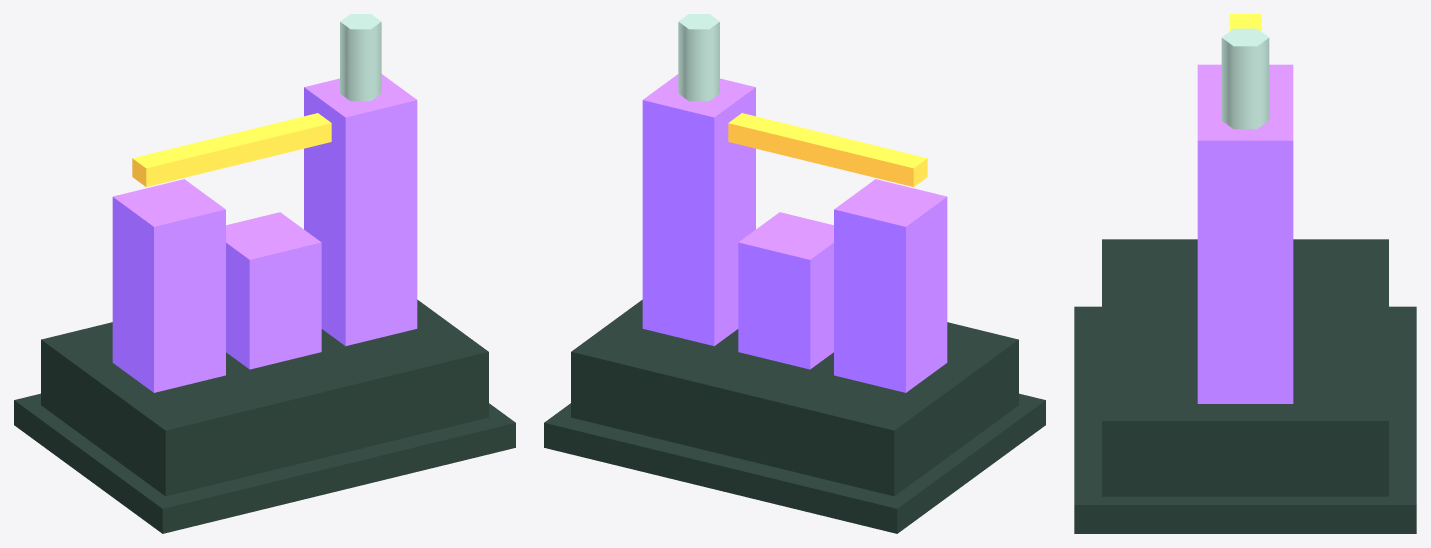
The model's file is demand-response-system.glb.
The picture shows the model from 3 angles, left to right: view 1: azimuth 30°, elevation 25°; view 2: azimuth 150°, elevation 25°; view 3: azimuth 270°, elevation 25°; orthographic projection. The views are drawn at different scales.
Parts seen in each view (by area): view 1: body-demand, pulse-tower-right, pulse-tower-left, base-footprint, pulse-tower-mid, pulse-demand-bus, antenna-demand; view 2: body-demand, pulse-tower-right, pulse-tower-left, base-footprint, pulse-tower-mid, pulse-demand-bus, antenna-demand; view 3: body-demand, pulse-tower-right, base-footprint, antenna-demand, pulse-tower-left, pulse-demand-bus.
Boxes of the visible parts, left/top/right/bottom form: body-demand: left=41, top=299, right=488, bottom=496; pulse-tower-right: left=304, top=74, right=417, bottom=346; pulse-tower-left: left=112, top=179, right=225, bottom=392; base-footprint: left=14, top=393, right=515, bottom=533; pulse-tower-mid: left=226, top=212, right=321, bottom=369; pulse-demand-bus: left=132, top=113, right=331, bottom=186; antenna-demand: left=340, top=14, right=381, bottom=101; body-demand: left=571, top=299, right=1018, bottom=496; pulse-tower-right: left=642, top=74, right=755, bottom=346; pulse-tower-left: left=834, top=179, right=947, bottom=392; base-footprint: left=544, top=393, right=1045, bottom=533; pulse-tower-mid: left=738, top=212, right=833, bottom=369; pulse-demand-bus: left=728, top=113, right=927, bottom=186; antenna-demand: left=678, top=14, right=719, bottom=101; body-demand: left=1102, top=239, right=1388, bottom=496; pulse-tower-right: left=1197, top=100, right=1293, bottom=403; base-footprint: left=1074, top=306, right=1416, bottom=533; antenna-demand: left=1221, top=28, right=1269, bottom=129; pulse-tower-left: left=1197, top=64, right=1293, bottom=100; pulse-demand-bus: left=1229, top=14, right=1261, bottom=30.
Size of the model in its own units: 1.18 by 1.25 by 0.86.
